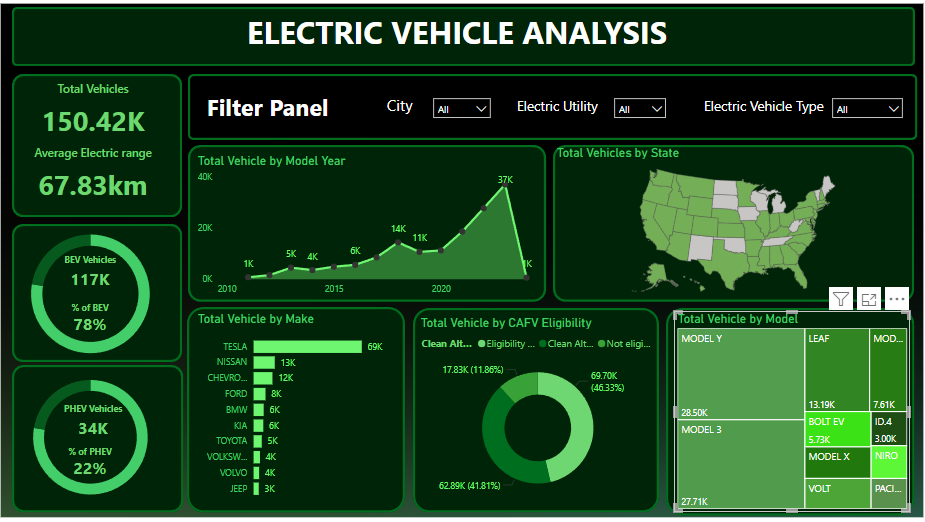

What the dashboard file says about the page in this screenshot:
{"tool":"powerbi","page":{"name":"Page 1","canvas":[1280,720],"ordinal":0},"visuals":[{"type":"image","box":[0,2.9,1280,717.1],"z":0},{"type":"shape","box":[20,12.9,1242.9,81.4],"z":1000},{"type":"textbox","box":[308.6,12.9,661.4,71.4],"z":2000},{"type":"shape","box":[20,311.4,234.3,190],"z":3000},{"type":"shape","box":[20,104.3,234.3,197.1],"z":4000},{"type":"shape","box":[20,505.7,235.7,202.9],"z":5000},{"type":"card","title":"Total Vehicles","fields":{"Values":["Electric_Vehicle_Population_Data.Total Vehicle"]},"box":[9.6,113.9,245,88.1],"z":6000},{"type":"card","title":"Average Electric range","fields":{"Values":["Electric_Vehicle_Population_Data.Average Range"]},"box":[9.6,202,245,88.1],"z":7000},{"type":"donutChart","fields":{"Category":["Electric_Vehicle_Population_Data.Electric Vehicle Type"],"Y":["Electric_Vehicle_Population_Data.Total Vehicle"]},"box":[0,300,257.1,214.3],"z":8000},{"type":"card","title":"BEV Vehicles ","fields":{"Values":["Electric_Vehicle_Population_Data.BEV Vehicle"]},"box":[51.4,352.9,154.3,54.3],"z":9000},{"type":"card","title":"% of BEV  ","fields":{"Values":["Electric_Vehicle_Population_Data.% of BEV"]},"box":[51.4,418.6,154.3,45.7],"z":10000},{"type":"donutChart","fields":{"Category":["Electric_Vehicle_Population_Data.Electric Vehicle Type"],"Y":["Electric_Vehicle_Population_Data.Total Vehicle"]},"box":[0,501.4,257.1,207.1],"z":11000},{"type":"card","title":"PHEV Vehicles ","fields":{"Values":["Electric_Vehicle_Population_Data.PHEV Vehicle"]},"box":[55,557.9,154.3,54.3],"z":12000},{"type":"card","title":"% of PHEV  ","fields":{"Values":["Electric_Vehicle_Population_Data.% of PHEV"]},"box":[51.4,617.1,154.3,45.7],"z":13000},{"type":"shape","box":[263.1,104.6,1003.8,90.8],"z":14000},{"type":"textbox","box":[282.9,122.9,197.1,52.9],"z":15000},{"type":"slicer","fields":{"Values":["Electric_Vehicle_Population_Data.City"]},"box":[590,128.6,98.6,42.9],"z":16000},{"type":"textbox","box":[531.4,128.6,58.6,47.1],"z":17000},{"type":"slicer","fields":{"Values":["Electric_Vehicle_Population_Data.Electric Utility"]},"box":[840,128.6,91.4,42.9],"z":18000},{"type":"textbox","box":[710,131.4,130,44.3],"z":19000},{"type":"shape","box":[262.9,202.9,492.9,215.7],"z":20000},{"type":"slicer","fields":{"Values":["Electric_Vehicle_Population_Data.Electric Vehicle Type"]},"box":[1140,128.6,117.1,42.9],"z":21000},{"type":"textbox","box":[967.1,131.4,184.3,47.1],"z":22000},{"type":"areaChart","fields":{"Y":["Electric_Vehicle_Population_Data.Total Vehicle"],"Category":["Electric_Vehicle_Population_Data.Model Year"]},"box":[271.4,212.9,475.7,205.7],"z":23000},{"type":"shape","box":[765.7,202.9,497.1,215.7],"z":24000},{"type":"shape","box":[261.4,425.7,300,282.9],"z":25000},{"type":"barChart","fields":{"Category":["Electric_Vehicle_Population_Data.Make"],"Y":["Electric_Vehicle_Population_Data.Total Vehicle"]},"box":[271.4,431.4,275.7,267.1],"z":26000},{"type":"shape","box":[572.9,427.1,338.6,281.4],"z":27000},{"type":"donutChart","title":"Total Vehicle by CAFV Eligibility","fields":{"Category":["Electric_Vehicle_Population_Data.Clean Alternative Fuel Vehicle (CAFV) Eligibility"],"Y":["Electric_Vehicle_Population_Data.Total Vehicle"]},"box":[578.8,435.6,332.5,263.1],"z":28000},{"type":"shape","box":[921.2,426.9,341.9,285.6],"z":29000},{"type":"treemap","fields":{"Group":["Electric_Vehicle_Population_Data.Model"],"Values":["Electric_Vehicle_Population_Data.Total Vehicle"]},"box":[931.2,431.2,325.6,276.9],"z":30000}]}

Visuals, with their boxes in screenshot pixels (x1, y1, x2, y2), scaled from the page's 1280x720 canvas onto the 925x522 screenshot:
image: <bbox>0, 2, 924, 521</bbox>
shape: <bbox>14, 9, 913, 68</bbox>
textbox: <bbox>223, 9, 701, 61</bbox>
shape: <bbox>14, 226, 184, 364</bbox>
shape: <bbox>14, 76, 184, 219</bbox>
shape: <bbox>14, 367, 185, 514</bbox>
"Total Vehicles" card: <bbox>7, 83, 184, 146</bbox>
"Average Electric range" card: <bbox>7, 146, 184, 210</bbox>
donutChart - Electric_Vehicle_Population_Data.Electric Vehicle Type x Electric_Vehicle_Population_Data.Total Vehicle: <bbox>0, 218, 186, 373</bbox>
"BEV Vehicles " card: <bbox>37, 256, 149, 295</bbox>
"% of BEV  " card: <bbox>37, 303, 149, 337</bbox>
donutChart - Electric_Vehicle_Population_Data.Electric Vehicle Type x Electric_Vehicle_Population_Data.Total Vehicle: <bbox>0, 364, 186, 514</bbox>
"PHEV Vehicles " card: <bbox>40, 404, 151, 444</bbox>
"% of PHEV  " card: <bbox>37, 447, 149, 481</bbox>
shape: <bbox>190, 76, 916, 142</bbox>
textbox: <bbox>204, 89, 347, 127</bbox>
slicer - Electric_Vehicle_Population_Data.City: <bbox>426, 93, 498, 124</bbox>
textbox: <bbox>384, 93, 426, 127</bbox>
slicer - Electric_Vehicle_Population_Data.Electric Utility: <bbox>607, 93, 673, 124</bbox>
textbox: <bbox>513, 95, 607, 127</bbox>
shape: <bbox>190, 147, 546, 303</bbox>
slicer - Electric_Vehicle_Population_Data.Electric Vehicle Type: <bbox>824, 93, 908, 124</bbox>
textbox: <bbox>699, 95, 832, 129</bbox>
areaChart - Electric_Vehicle_Population_Data.Total Vehicle x Electric_Vehicle_Population_Data.Model Year: <bbox>196, 154, 540, 303</bbox>
shape: <bbox>553, 147, 913, 303</bbox>
shape: <bbox>189, 309, 406, 514</bbox>
barChart - Electric_Vehicle_Population_Data.Make x Electric_Vehicle_Population_Data.Total Vehicle: <bbox>196, 313, 395, 506</bbox>
shape: <bbox>414, 310, 659, 514</bbox>
"Total Vehicle by CAFV Eligibility" donutChart: <bbox>418, 316, 659, 507</bbox>
shape: <bbox>666, 310, 913, 517</bbox>
treemap - Electric_Vehicle_Population_Data.Model x Electric_Vehicle_Population_Data.Total Vehicle: <bbox>673, 313, 908, 513</bbox>
